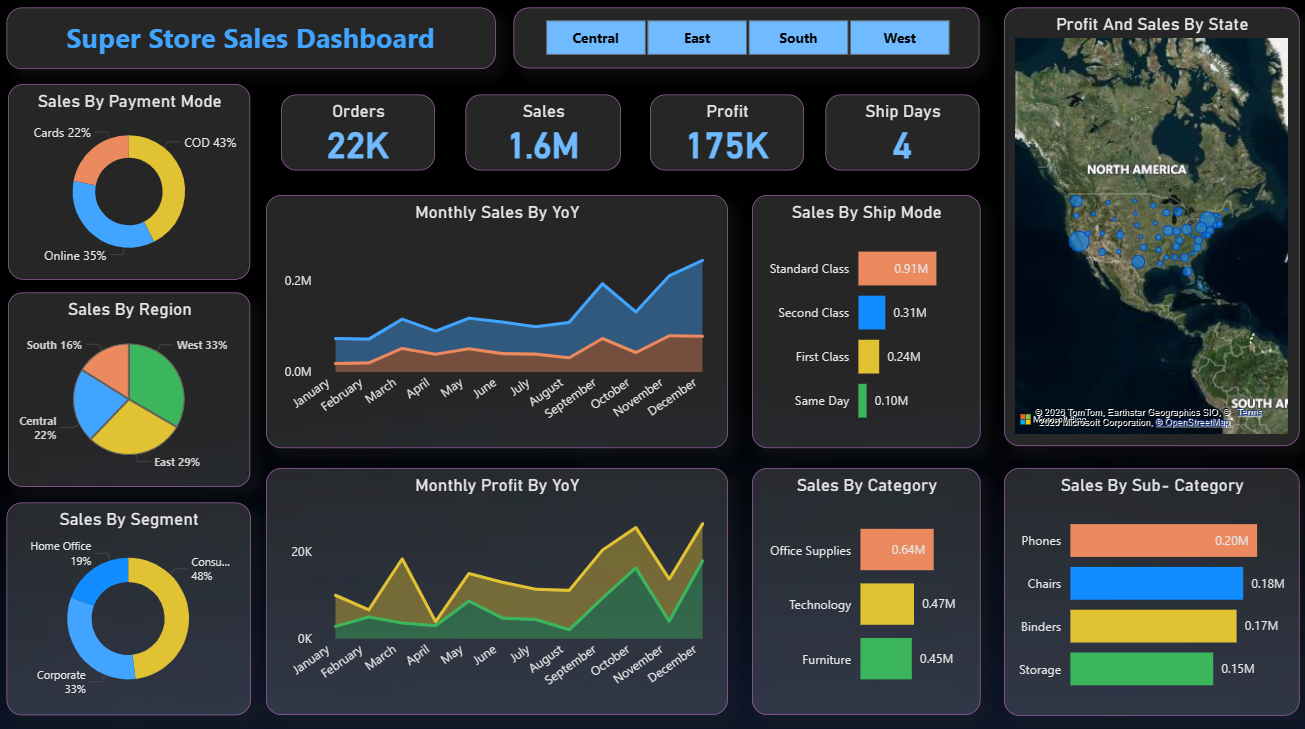

Layout of this report page (visuals, bound fields, positions):
{"tool":"powerbi","page":{"name":"Page 1","canvas":[1280,720],"ordinal":0},"visuals":[{"type":"clusteredBarChart","title":"Sales By Category","fields":{"Category":["Sheet1.Category"],"Y":["Sum(Sheet1.Sales)"]},"box":[735.9,461.8,222.6,240.8],"z":0},{"type":"clusteredBarChart","title":"Sales By Sub- Category","fields":{"Category":["Sheet1.Sub-Category"],"Y":["Sum(Sheet1.Sales)"]},"box":[982.1,461.8,287.9,241.1],"z":1000},{"type":"clusteredBarChart","title":"Sales By Ship Mode","fields":{"Category":["Sheet1.Ship Mode"],"Y":["Sum(Sheet1.Sales)"]},"box":[735.9,195.3,222.6,246.8],"z":2000},{"type":"stackedAreaChart","title":"Monthly Sales By YoY","fields":{"Y":["Sum(Sheet1.Sales)"],"Category":["Sheet1.Order Date.Variation.Date Hierarchy.Month","Sheet1.Order Date.Variation.Date Hierarchy.Day"],"Series":["Sheet1.Order Date.Variation.Date Hierarchy.Year"]},"box":[263.5,195.3,449.7,246.8],"z":3000},{"type":"stackedAreaChart","title":"Monthly Profit By YoY","fields":{"Category":["Sheet1.Order Date.Variation.Date Hierarchy.Month","Sheet1.Order Date.Variation.Date Hierarchy.Day"],"Series":["Sheet1.Order Date.Variation.Date Hierarchy.Year"],"Y":["Sum(Sheet1.Profit)"]},"box":[263.5,461.8,449.7,240.8],"z":4000},{"type":"map","title":"Profit And Sales By State","fields":{"Category":["Sheet1.State"],"Size":["Sum(Sheet1.Sales)"]},"box":[982.7,13.6,287.7,427],"z":5000},{"type":"donutChart","title":"Sales By Segment","fields":{"Category":["Sheet1.Segment"],"Y":["Sum(Sheet1.Sales)"]},"box":[10.6,495.1,237.7,207.4],"z":6000},{"type":"donutChart","title":"Sales By Payment Mode","fields":{"Category":["Sheet1.Payment Mode"],"Y":["Sum(Sheet1.Sales)"]},"box":[12.1,87.8,236.2,190.8],"z":7000},{"type":"slicer","fields":{"Values":["Sheet1.Region"]},"box":[504.2,13.6,454.3,59.1],"z":8000},{"type":"textbox","box":[10.2,13.2,476.4,59.9],"z":9000},{"type":"card","title":"Sales","fields":{"Values":["Sum(Sheet1.Sales)"]},"box":[457.3,98.4,151.4,74.2],"z":10000},{"type":"card","title":"Orders","fields":{"Values":["Sum(Sheet1.Quantity)"]},"box":[277.1,98.4,149.9,74.2],"z":11000},{"type":"card","title":"Profit","fields":{"Values":["Sum(Sheet1.Profit)"]},"box":[637.5,98.4,149.9,74.2],"z":12000},{"type":"card","title":"Ship Days","fields":{"Values":["Avg(Sheet1.AvgDelivery)"]},"box":[808.6,98.4,149.9,74.2],"z":13000},{"type":"pieChart","title":"Sales By Region","fields":{"Y":["Sum(Sheet1.Sales)"],"Category":["Sheet1.Region"]},"box":[12.1,290.7,236.2,189.3],"z":14001}]}

Visuals, with their boxes in screenshot pixels (x1, y1, x2, y2), scaled from the page's 1280x720 canvas onto the 1305x729 screenshot:
"Sales By Category" clusteredBarChart: detection(750, 468, 977, 711)
"Sales By Sub- Category" clusteredBarChart: detection(1001, 468, 1295, 712)
"Sales By Ship Mode" clusteredBarChart: detection(750, 198, 977, 448)
"Monthly Sales By YoY" stackedAreaChart: detection(269, 198, 727, 448)
"Monthly Profit By YoY" stackedAreaChart: detection(269, 468, 727, 711)
"Profit And Sales By State" map: detection(1002, 14, 1295, 446)
"Sales By Segment" donutChart: detection(11, 501, 253, 711)
"Sales By Payment Mode" donutChart: detection(12, 89, 253, 282)
slicer - Sheet1.Region: detection(514, 14, 977, 74)
textbox: detection(10, 13, 496, 74)
"Sales" card: detection(466, 100, 621, 175)
"Orders" card: detection(283, 100, 435, 175)
"Profit" card: detection(650, 100, 803, 175)
"Ship Days" card: detection(824, 100, 977, 175)
"Sales By Region" pieChart: detection(12, 294, 253, 486)
